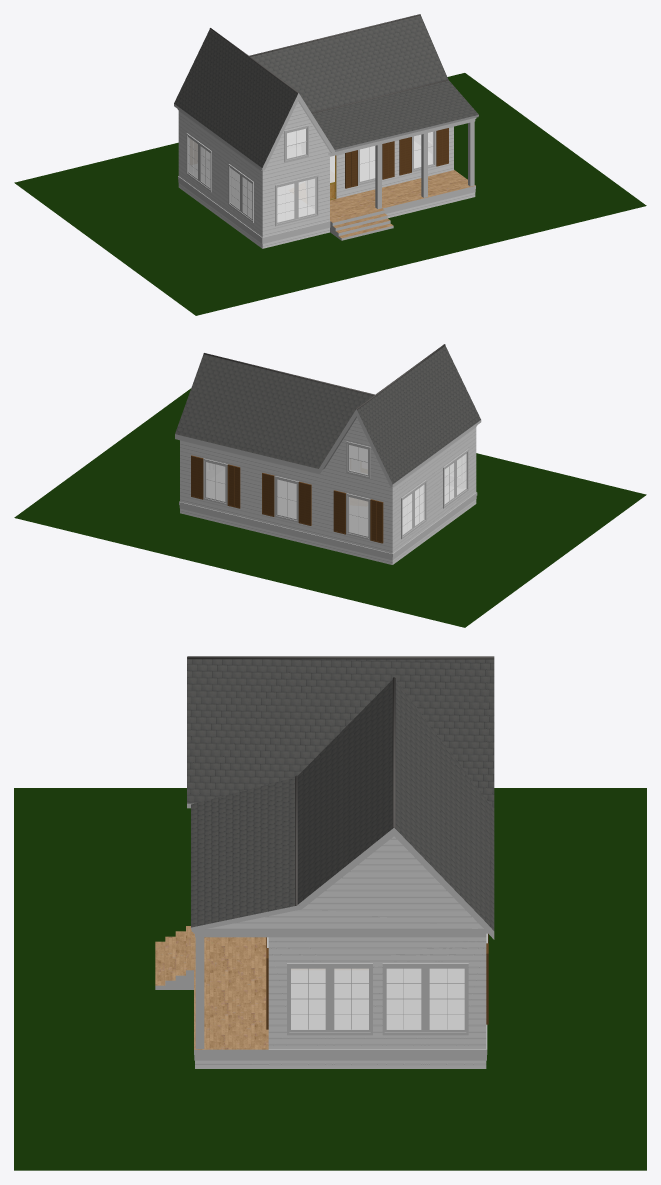
File: dom_small.glb
3 views of the same model, one above another, from view 1: azimuth 30°, elevation 25°; view 2: azimuth 150°, elevation 25°; view 3: azimuth 270°, elevation 25° (orthographic). The views are drawn at different scales.
Visible parts, largest first — view 1: Object_2, Object_12, Object_7, Object_3, Object_10, Object_11, Object_8, Object_9; view 2: Object_2, Object_12, Object_7, Object_3, Object_10, Object_8, Object_9; view 3: Object_2, Object_12, Object_7, Object_3, Object_11, Object_10.
Boxes of the visible parts, left/top/right/bottom form: Object_2: left=14, top=73, right=646, bottom=315; Object_12: left=174, top=14, right=478, bottom=167; Object_7: left=178, top=101, right=475, bottom=248; Object_3: left=174, top=93, right=478, bottom=243; Object_10: left=188, top=128, right=433, bottom=222; Object_11: left=330, top=170, right=475, bottom=238; Object_8: left=346, top=128, right=447, bottom=187; Object_9: left=345, top=128, right=448, bottom=188; Object_2: left=14, top=388, right=646, bottom=627; Object_12: left=175, top=344, right=480, bottom=484; Object_7: left=180, top=418, right=476, bottom=564; Object_3: left=175, top=409, right=481, bottom=560; Object_10: left=206, top=445, right=466, bottom=536; Object_8: left=191, top=457, right=381, bottom=542; Object_9: left=191, top=455, right=383, bottom=543; Object_2: left=14, top=788, right=646, bottom=1170; Object_12: left=187, top=656, right=494, bottom=930; Object_7: left=195, top=836, right=486, bottom=1068; Object_3: left=155, top=803, right=494, bottom=1060; Object_11: left=155, top=926, right=268, bottom=1049; Object_10: left=291, top=968, right=464, bottom=1029.
Size of the model in its own units: 21.43 by 7.92 by 14.97.
11 materials, 6 textured.
